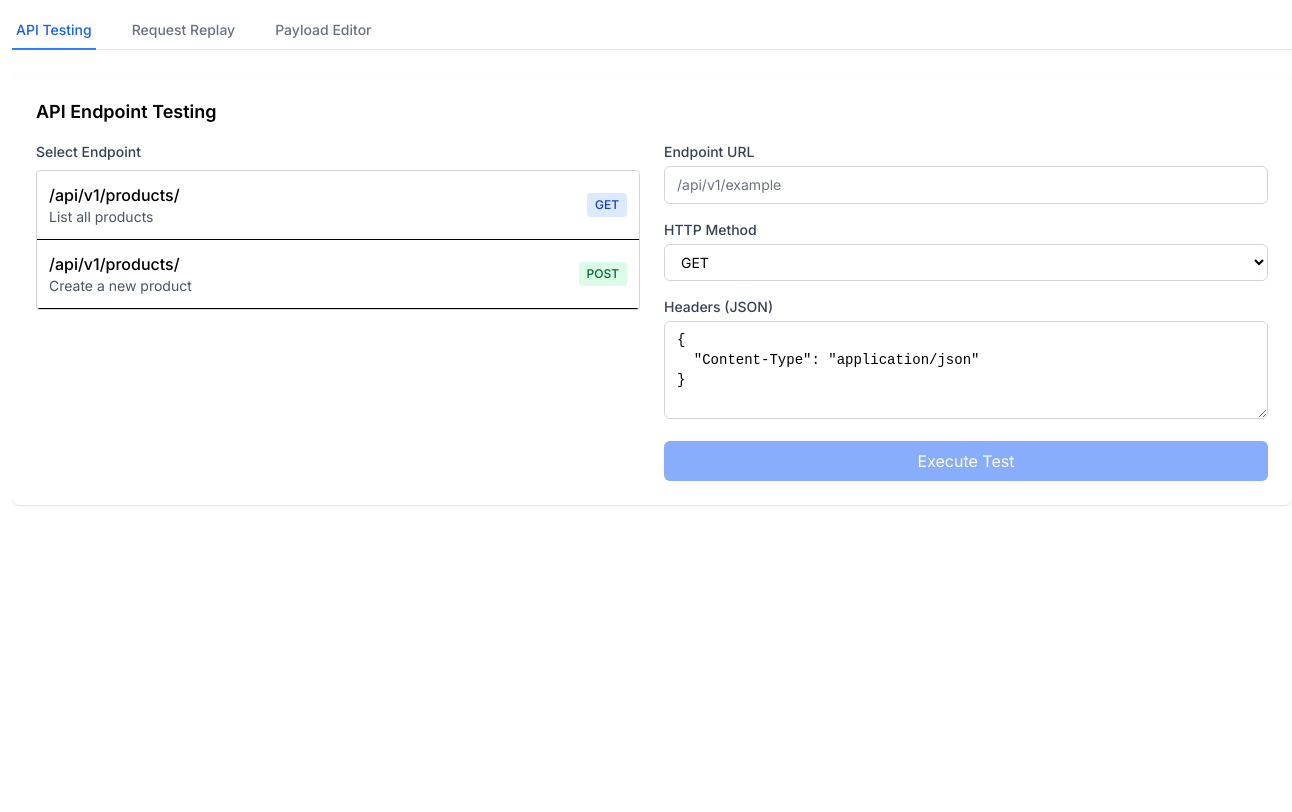
Scenario: DebuggingToolsInterface › generates payload for POST endpoints
What coordinates should you click on to do the following:
click the text "Create a new product"
I would click on:
 (120, 286)
Its box is 49,276 -> 192,296.
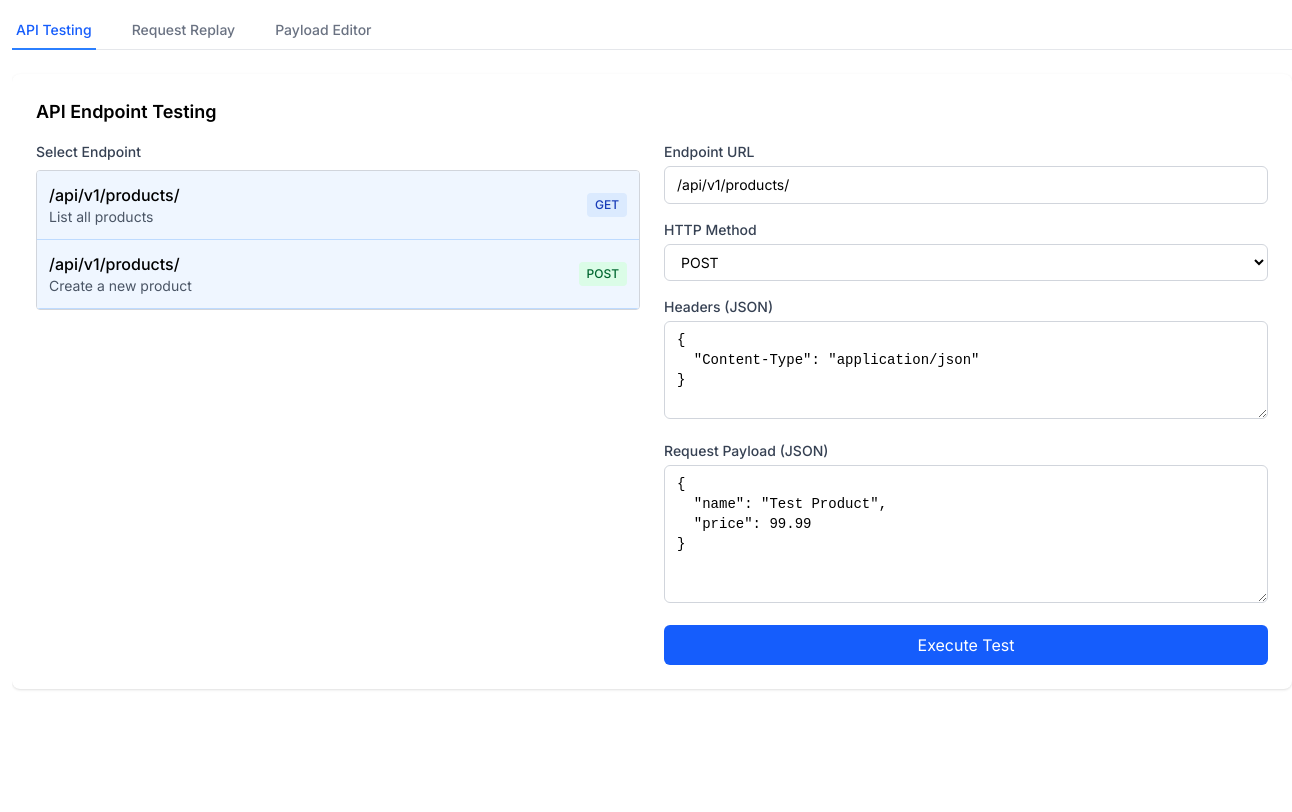
Now the dropdown showing "POST" is shown, box 664,244 -> 1268,281
Now the text box with placeholder "{}" below "Request Payload (JSON)" is shown, box 664,465 -> 1268,603
